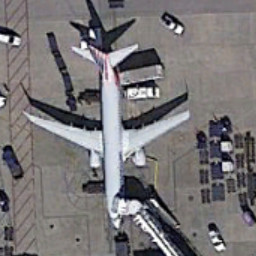Airplane: (11, 29, 202, 242)
